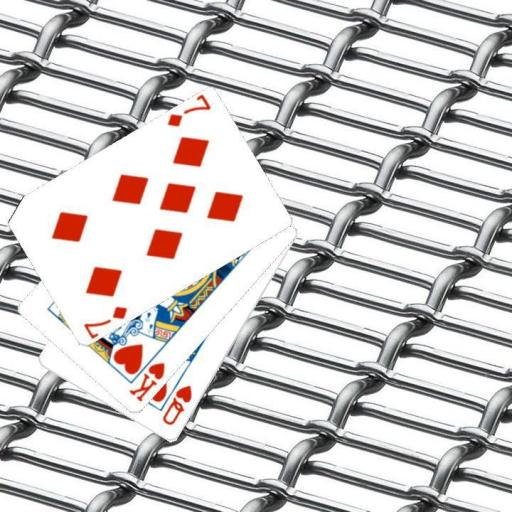card-corner: (126, 359, 167, 404), (80, 303, 130, 339), (164, 93, 212, 129), (159, 382, 194, 428)
